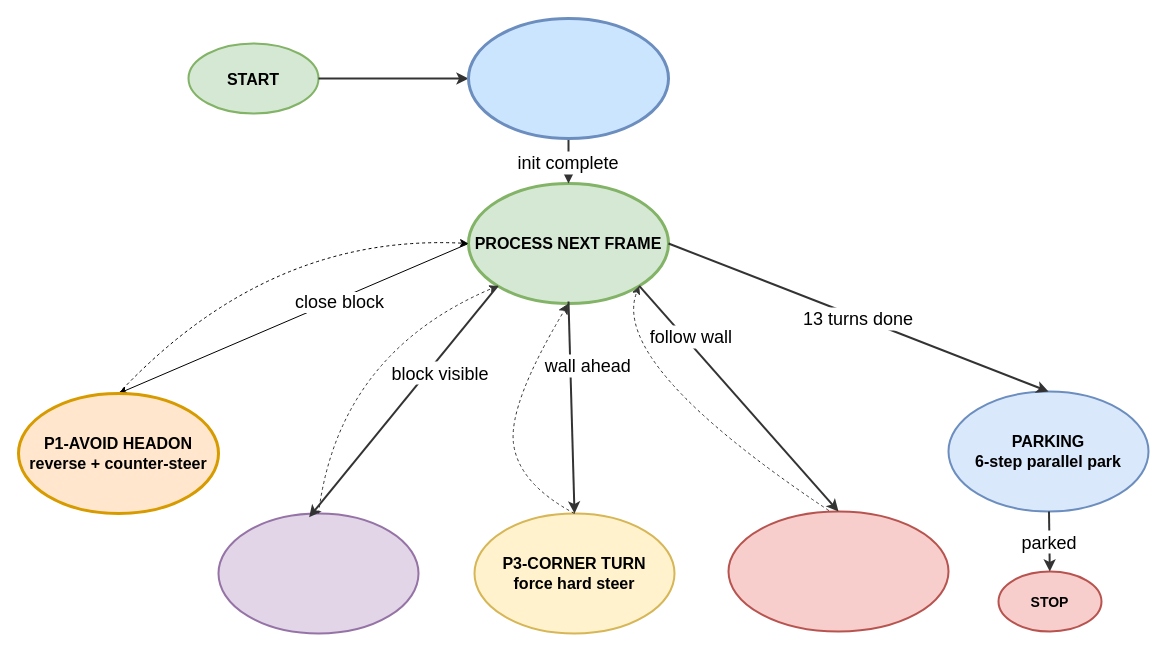
Image size: 1167x652. Some labels were removed from this diagram. Each missing label, with the box of its shape:
INITIAL MANEUVER leave parking + pass first traffic sign: (466, 16, 670, 140)
P2-PASS TRAFFIC SIGN target-line steering: (217, 512, 419, 634)
P4-WALL FOLLOW: (727, 510, 949, 632)
